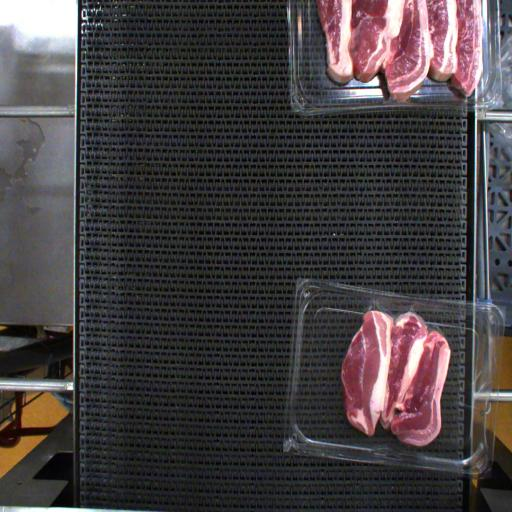packaging-error: (365, 292, 393, 317)
unsealed: (418, 316, 450, 342)
